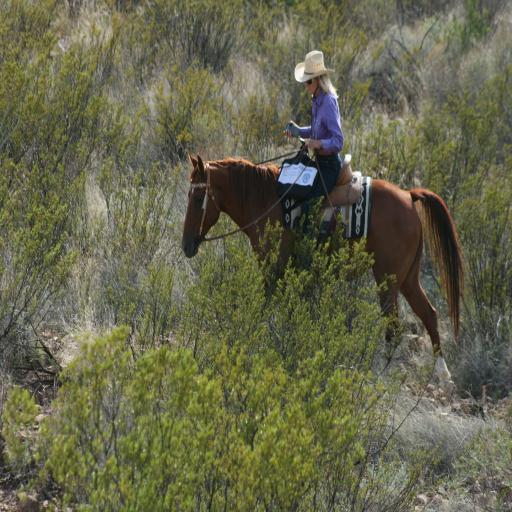horse: (180, 150, 470, 381)
